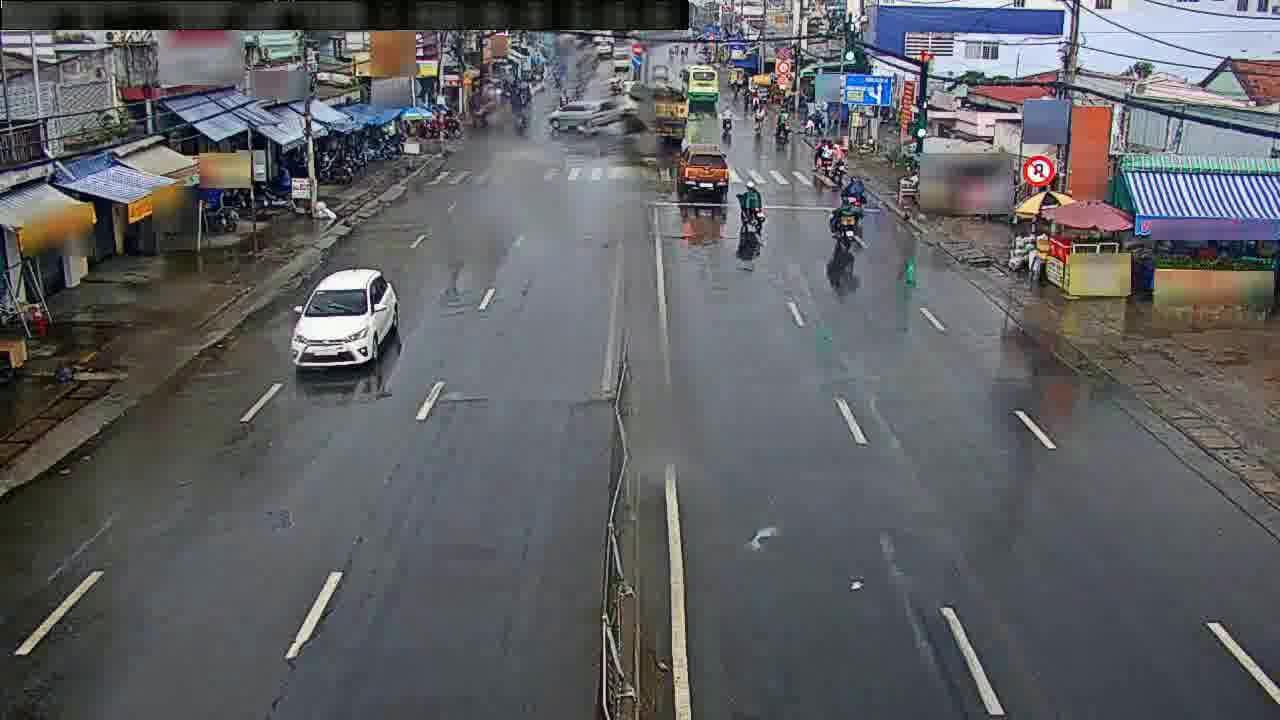container: (287, 267, 401, 377), (677, 146, 731, 197), (558, 96, 608, 134)
motorbike: (832, 183, 862, 245), (737, 177, 766, 232), (812, 136, 835, 174), (715, 103, 735, 137), (773, 108, 791, 141)
